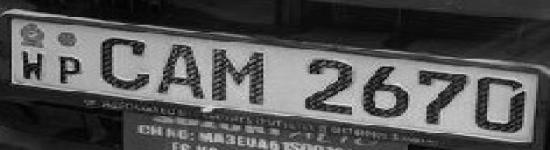0: (472, 73, 530, 136)
2: (295, 55, 359, 117)
6: (358, 63, 414, 121)
7: (413, 66, 471, 130)
A: (152, 41, 209, 101)
C: (90, 34, 154, 92)
M: (210, 46, 272, 108)
P: (50, 52, 87, 87)
W: (17, 48, 47, 84)
